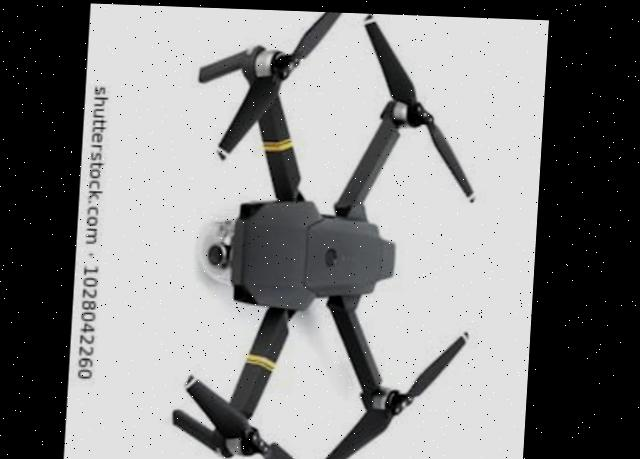drone: (103, 4, 549, 459)
